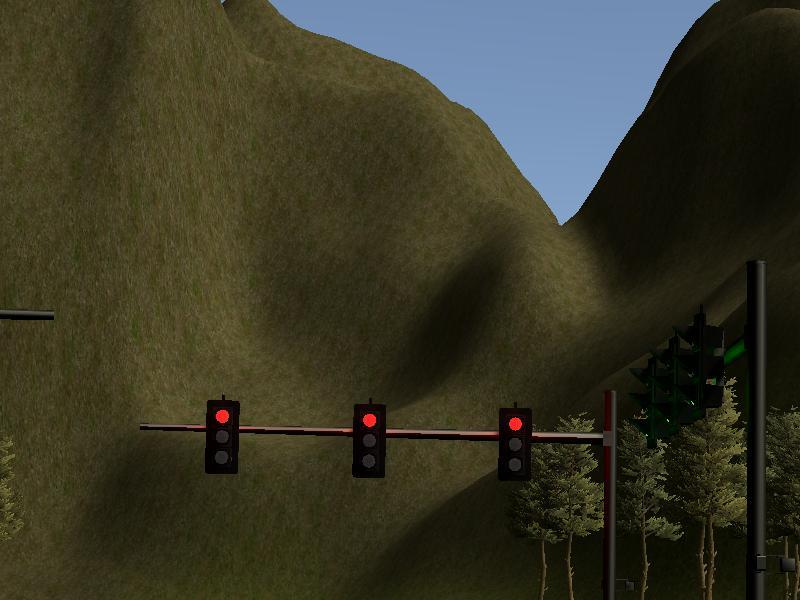Red: (353, 405, 385, 477), (500, 408, 530, 479), (208, 400, 236, 473)
